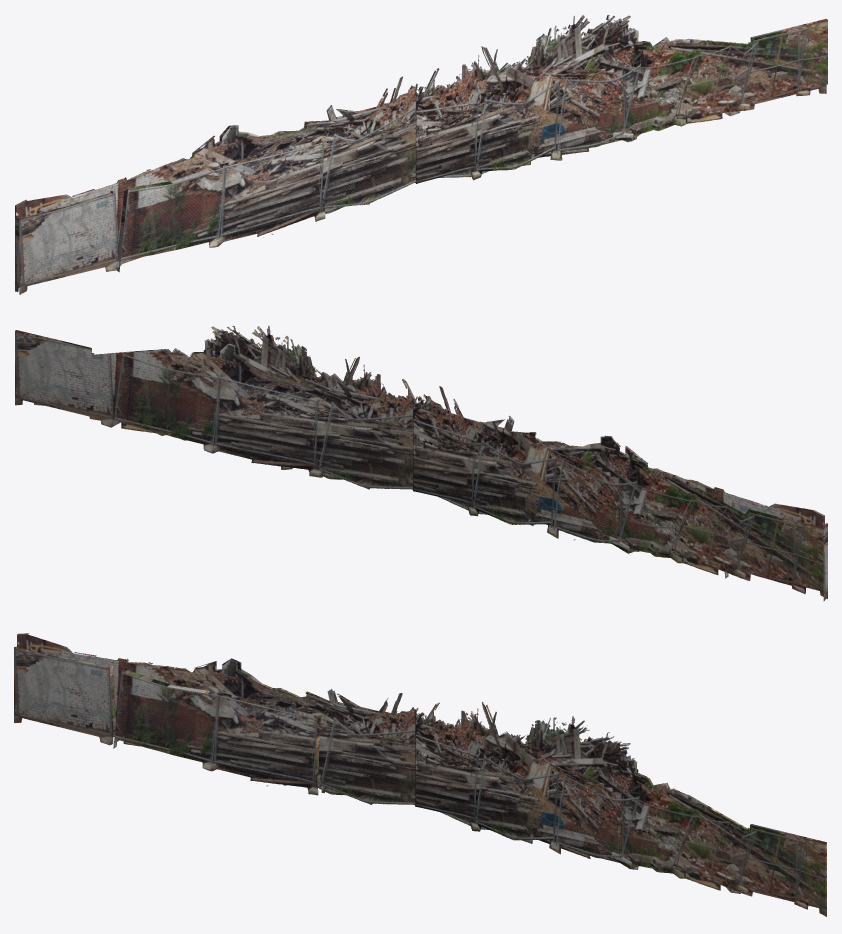
The model's file is Garbage Along a Fence.fbx.
3 views of the same model, one above another, from view 1: azimuth 30°, elevation 25°; view 2: azimuth 150°, elevation 25°; view 3: azimuth 330°, elevation 25° (orthographic).
Visible parts, largest first — view 1: Model; view 2: Model; view 3: Model.
Boxes of the visible parts, bbox=[...] form: Model: bbox=[15, 15, 827, 294]; Model: bbox=[15, 325, 827, 601]; Model: bbox=[14, 633, 826, 916].
Bounding box in the file's own units: 157 × 26.4 × 1.88.
